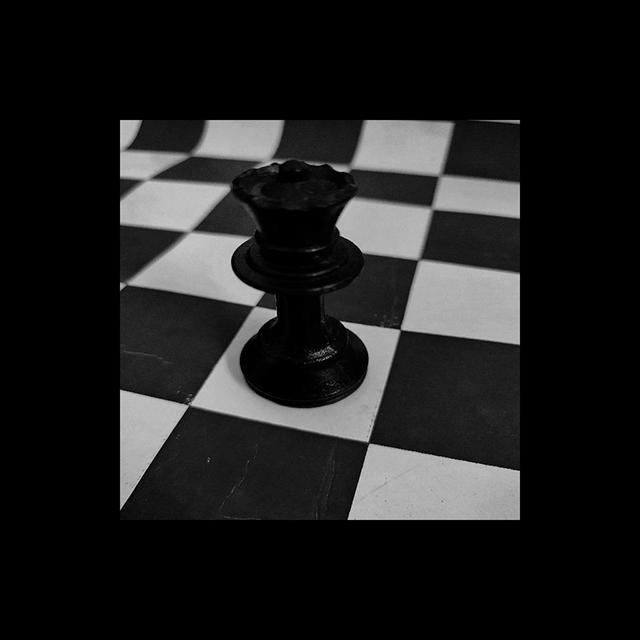black-queen: (229, 156, 371, 408)
